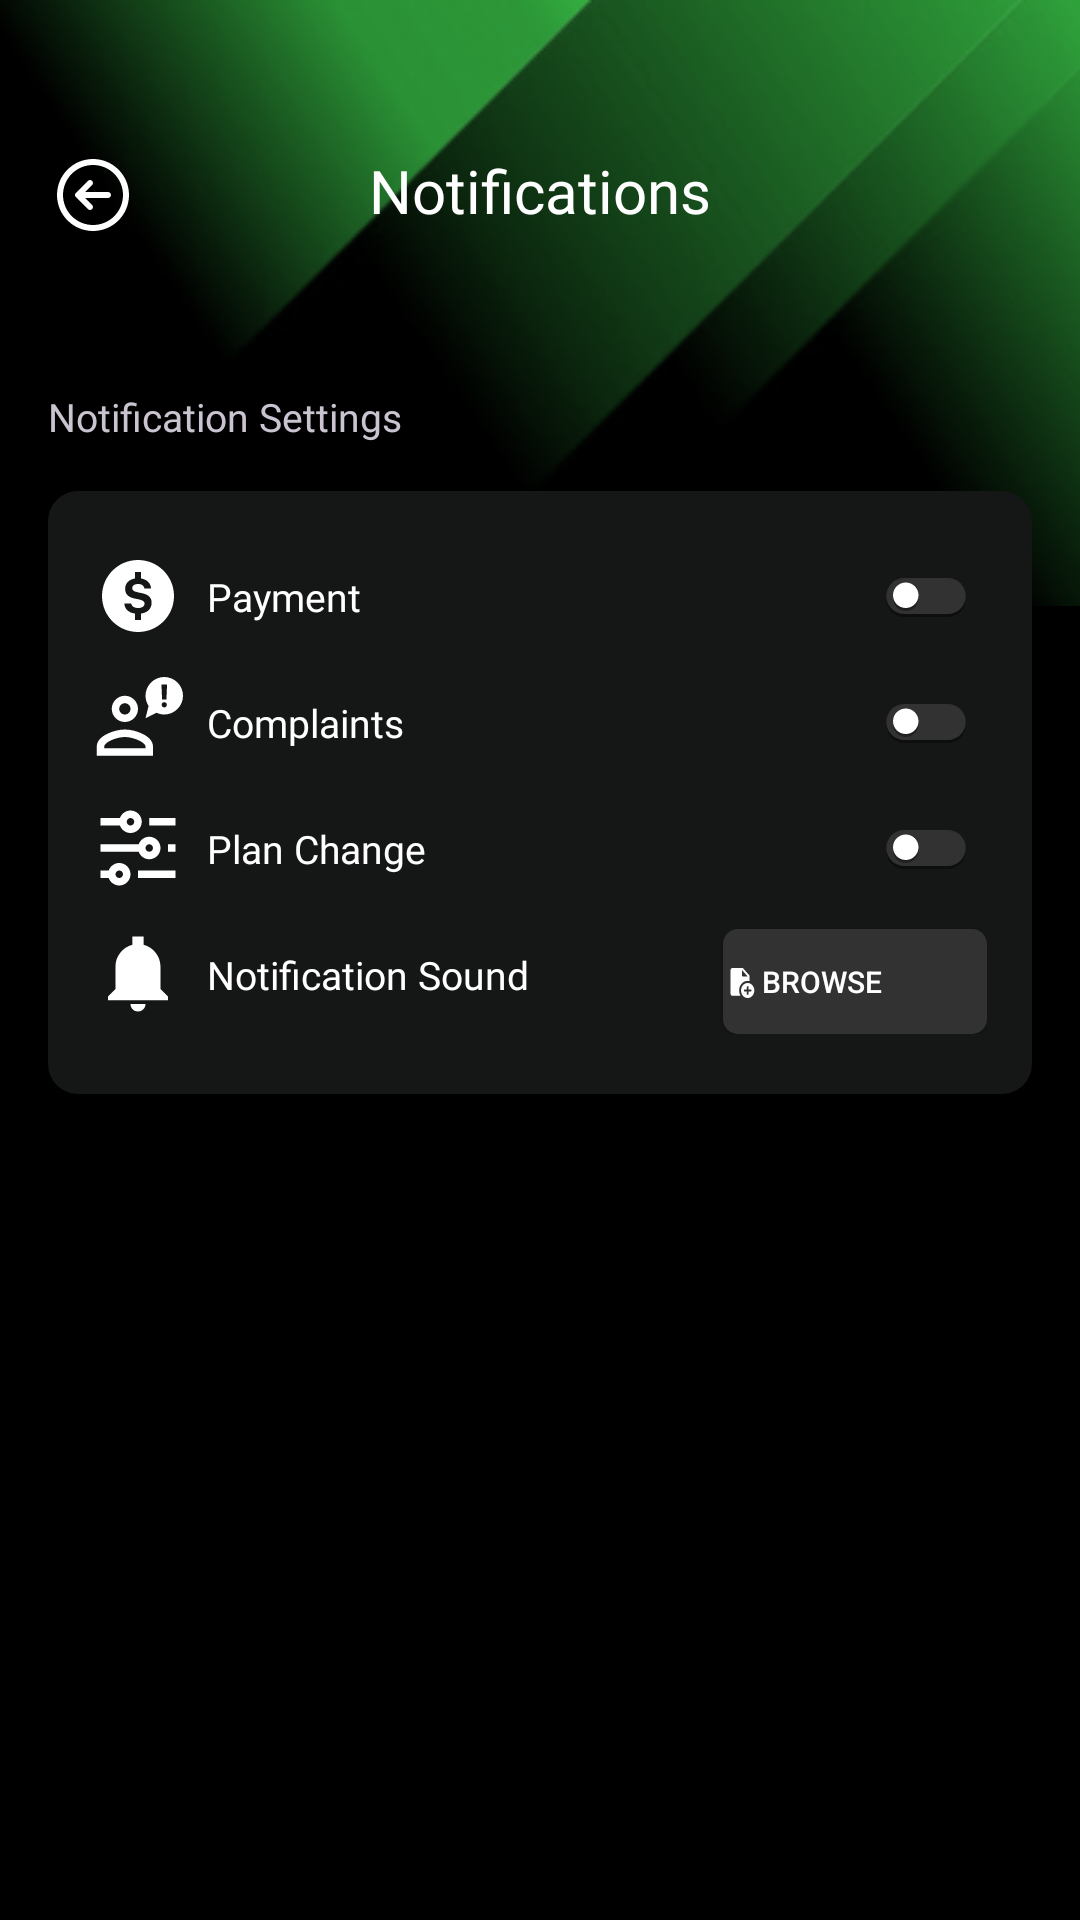

Where to tap for icons on this 1080*1920 app screen, as point (x, y):
backicon: point (93, 195)
plans: point (138, 848)
toggleoff: point (926, 596), point (926, 722), point (926, 848)
